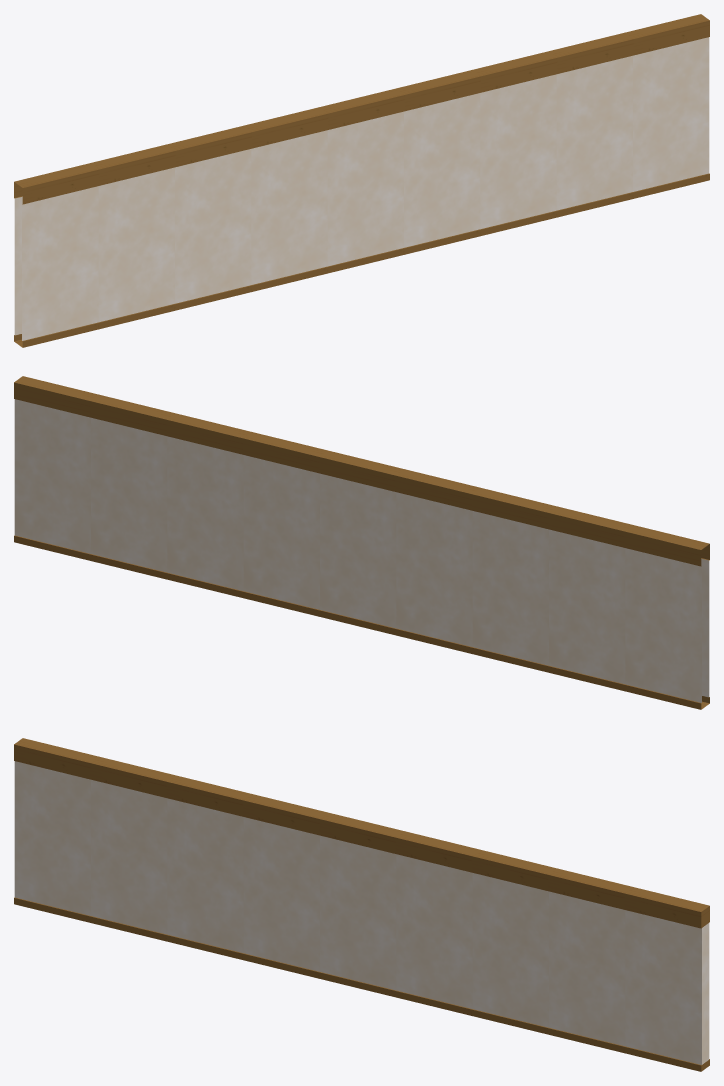
The model's file is wall_9.fbx.
3 renders of one model, top to bottom at view 1: azimuth 30°, elevation 25°; view 2: azimuth 150°, elevation 25°; view 3: azimuth 330°, elevation 25°, orthographic.
Visible parts, largest first — view 1: wall09; view 2: wall09; view 3: wall09.
Part boxes in pixels (x1=…): wall09: x1=14, y1=14, x2=709, y2=347; wall09: x1=14, y1=376, x2=709, y2=709; wall09: x1=14, y1=738, x2=709, y2=1071.
Size of the model in its own units: 900 by 200 by 20.
